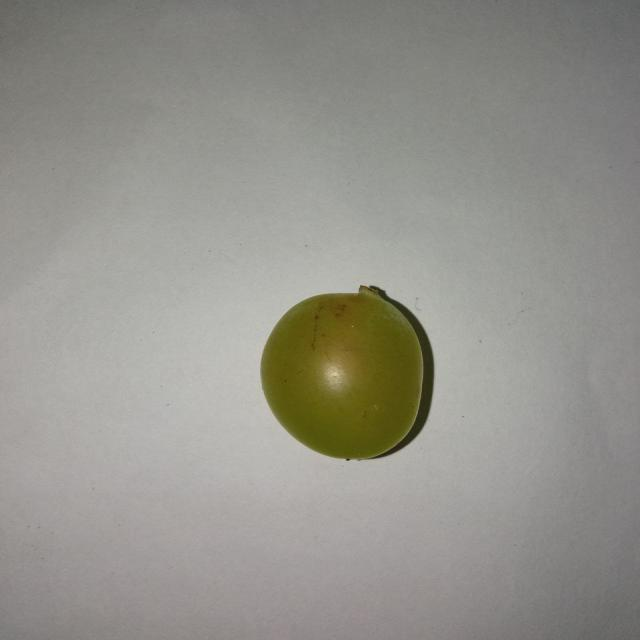fresh_grape: (263, 292, 419, 457)
